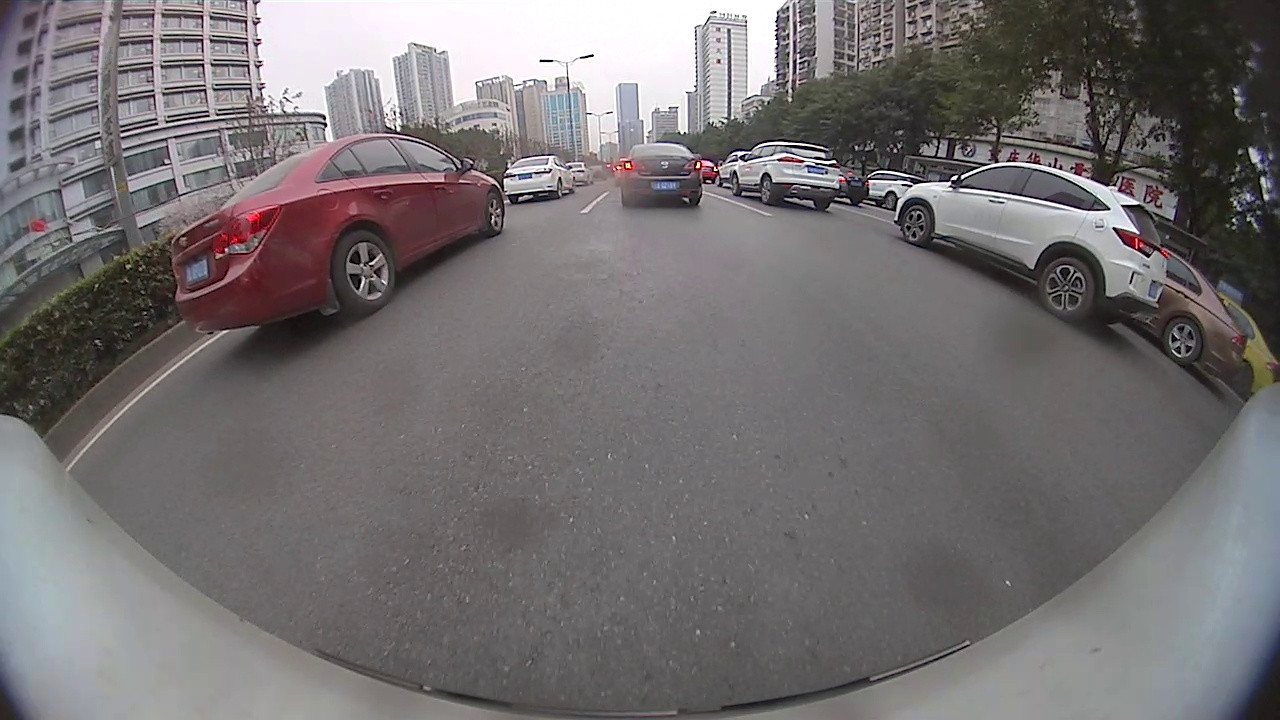car: (169, 131, 505, 333), (894, 160, 1168, 322), (1124, 246, 1244, 382), (1195, 293, 1277, 398), (726, 139, 847, 210), (618, 142, 704, 209), (502, 150, 573, 205), (861, 164, 923, 209), (556, 159, 593, 188)
front: (902, 205, 931, 244), (484, 191, 505, 234), (728, 167, 740, 196)
rear: (334, 231, 395, 313), (1040, 257, 1096, 321), (1162, 317, 1203, 365), (760, 170, 770, 204), (883, 192, 894, 208)
